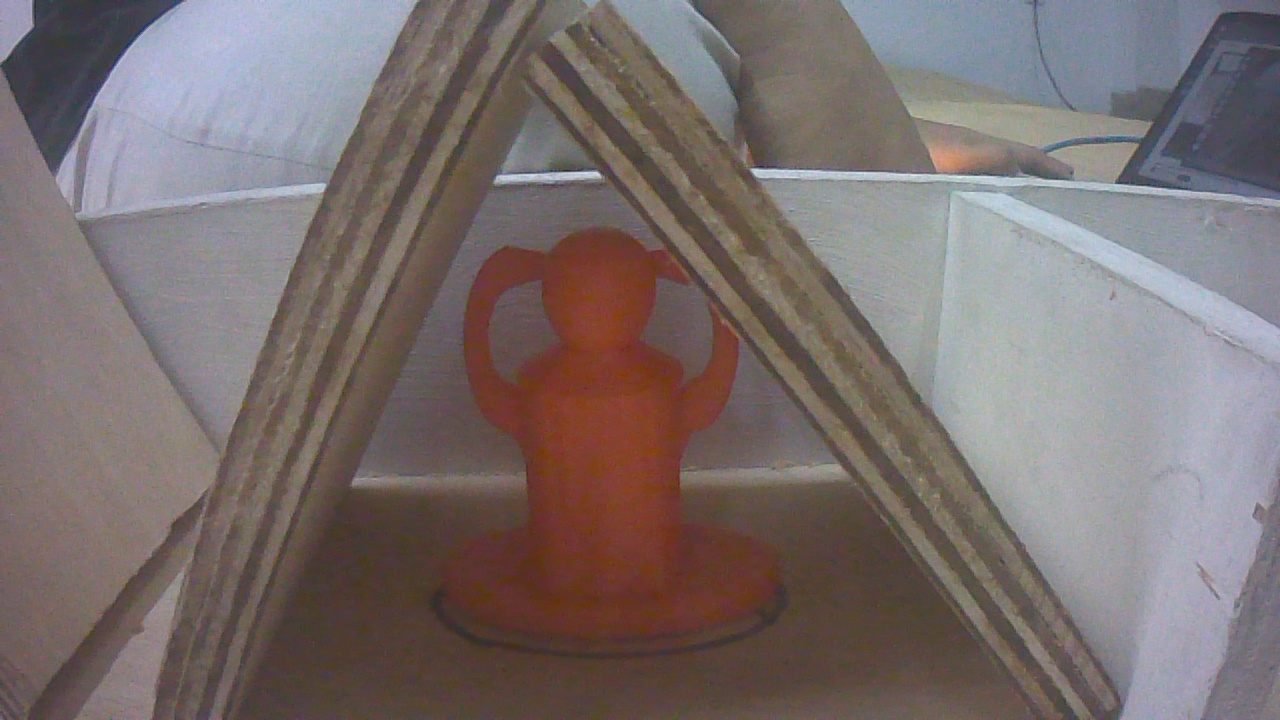real: (439, 241, 789, 654)
